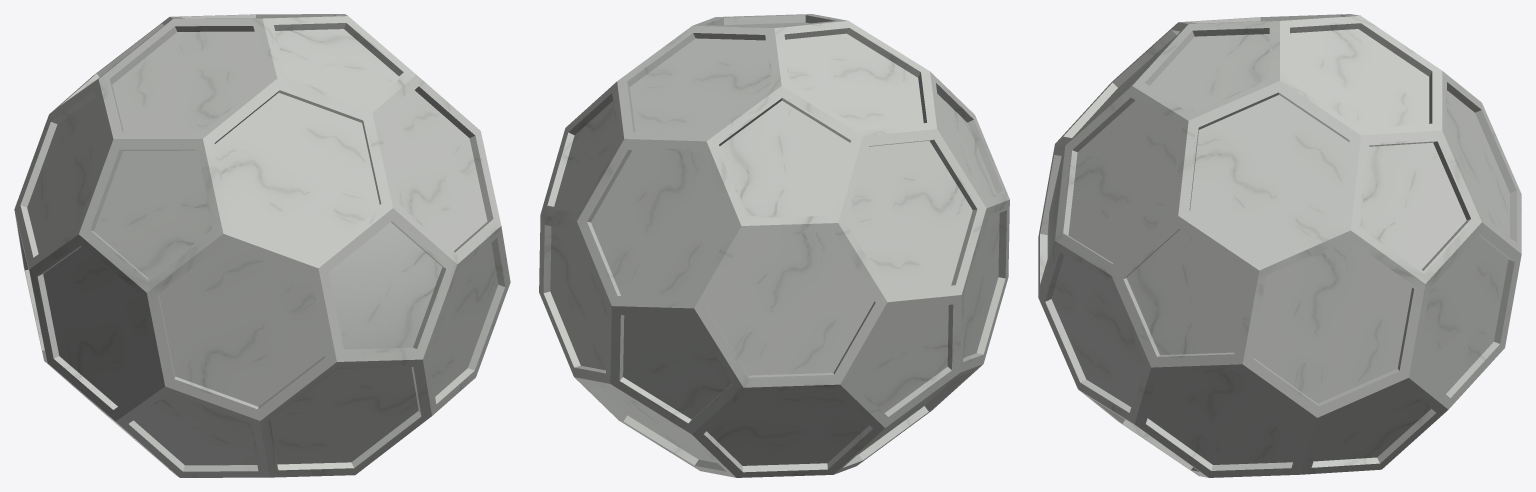
The picture shows the model from 3 angles, left to right: view 1: azimuth 30°, elevation 25°; view 2: azimuth 150°, elevation 25°; view 3: azimuth 270°, elevation 25°; orthographic projection. The views are drawn at different scales.
Visible parts, largest first — view 1: SM_Sphere; view 2: SM_Sphere; view 3: SM_Sphere.
Boxes of the visible parts, box(x1,y1,x2,y2) form: SM_Sphere: box(14, 14, 510, 477); SM_Sphere: box(539, 14, 1009, 477); SM_Sphere: box(1038, 14, 1521, 477).
Size of the model in its own units: 1.97 by 2 by 1.95.
